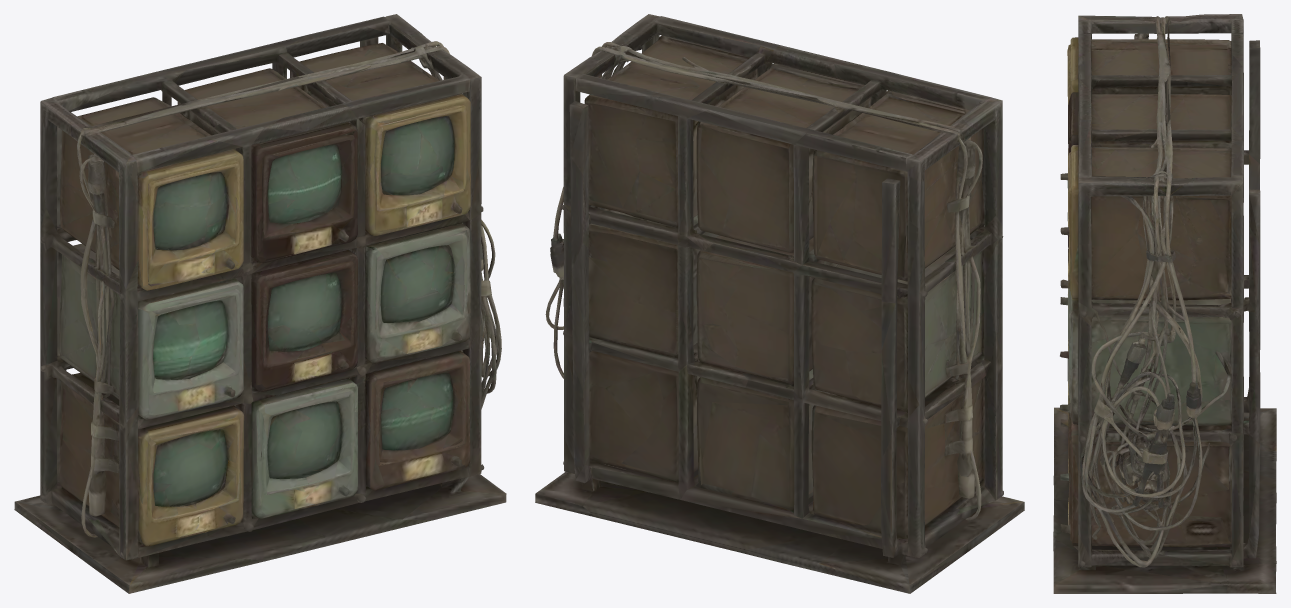
The model's file is monitors.glb.
3 views of the same model, side by side, from view 1: azimuth 30°, elevation 25°; view 2: azimuth 150°, elevation 25°; view 3: azimuth 270°, elevation 25° (orthographic). The views are drawn at different scales.
Parts seen in each view (by area): view 1: Mesh_0; view 2: Mesh_0; view 3: Mesh_0.
Boxes of the visible parts, x1,y1,x2,y2 form: Mesh_0: (14,14,506,593); Mesh_0: (535,14,1024,593); Mesh_0: (1053,14,1276,593).
Size of the model in its own units: 1.9 by 1.82 by 0.9015.
Materials: 1 (1 with a texture image).
